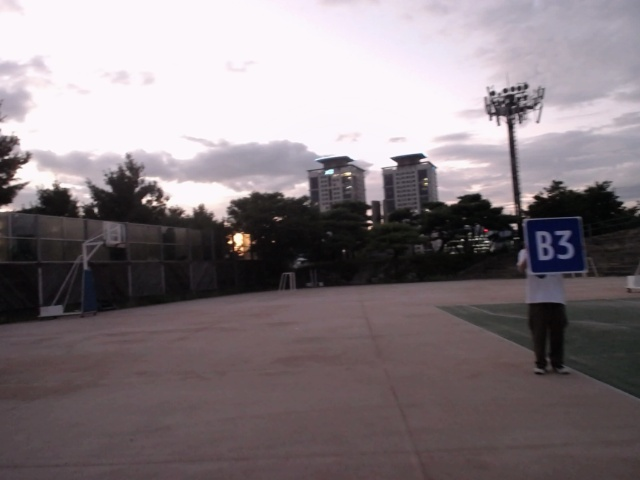delivery_b3: (521, 217, 588, 275)
